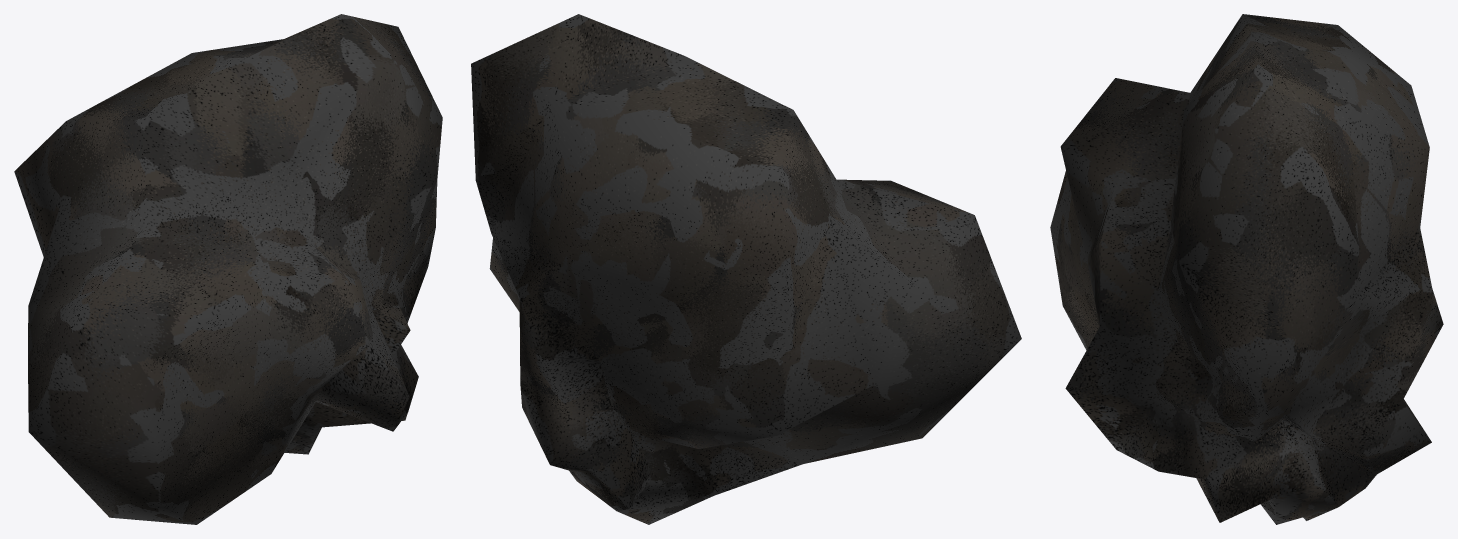
The model's file is Asteroid_2.fbx.
3 renders of one model, left to right at view 1: azimuth 30°, elevation 25°; view 2: azimuth 150°, elevation 25°; view 3: azimuth 270°, elevation 25°, orthographic. The views are drawn at different scales.
Visible parts, largest first — view 1: Asteroid_2; view 2: Asteroid_2; view 3: Asteroid_2.
Part boxes in pixels (x1,y1,x2,y2): Asteroid_2: [14, 14, 442, 524]; Asteroid_2: [471, 14, 1021, 524]; Asteroid_2: [1050, 14, 1443, 524].
Size of the model in its own units: 153 by 224 by 216.
